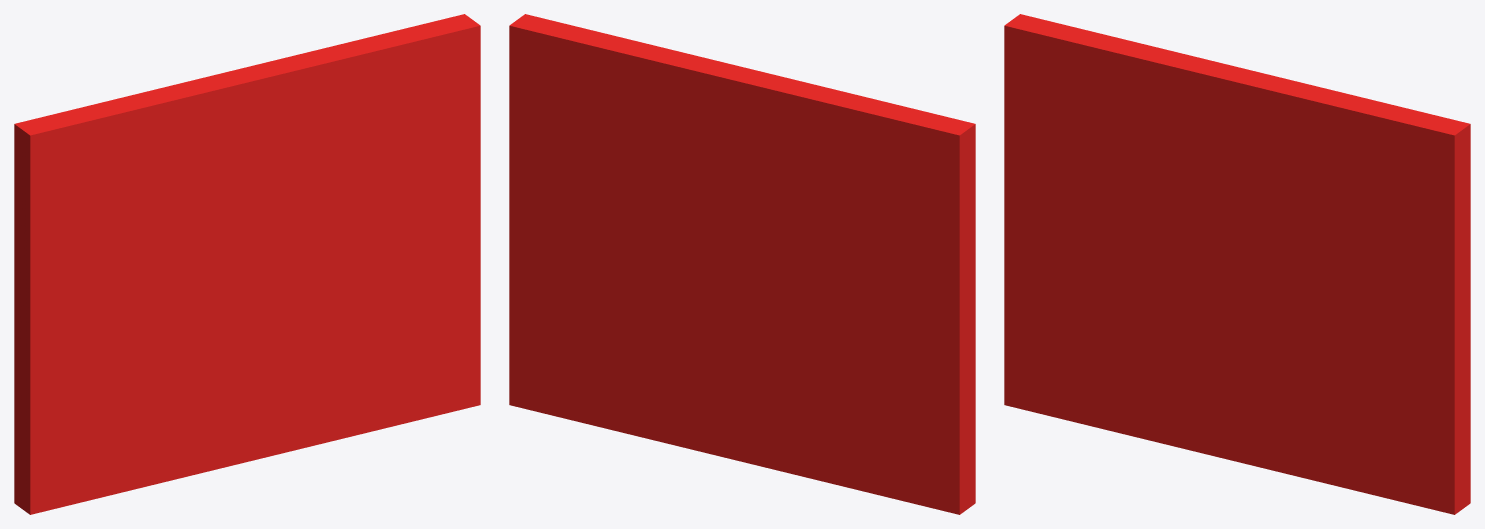
Rendered from SBBottomRedfbx.fbx.
The picture shows the model from 3 angles, left to right: view 1: azimuth 30°, elevation 25°; view 2: azimuth 150°, elevation 25°; view 3: azimuth 330°, elevation 25°; orthographic projection.
Visible parts, largest first — view 1: Plane.043; view 2: Plane.043; view 3: Plane.043.
Part boxes in pixels (x1,y1,x2,y2): Plane.043: (14, 14, 480, 514); Plane.043: (509, 14, 975, 514); Plane.043: (1004, 14, 1470, 514).
Size of the model in its own units: 2 by 1.61 by 0.1223.
